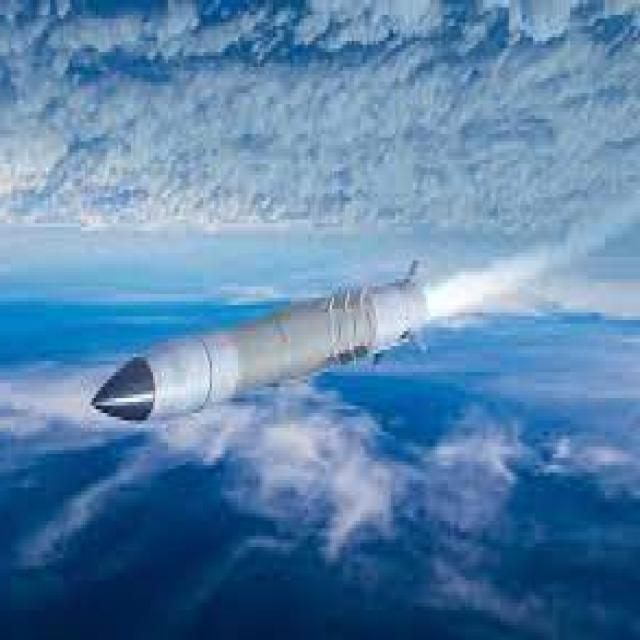missile: (86, 275, 438, 423)
